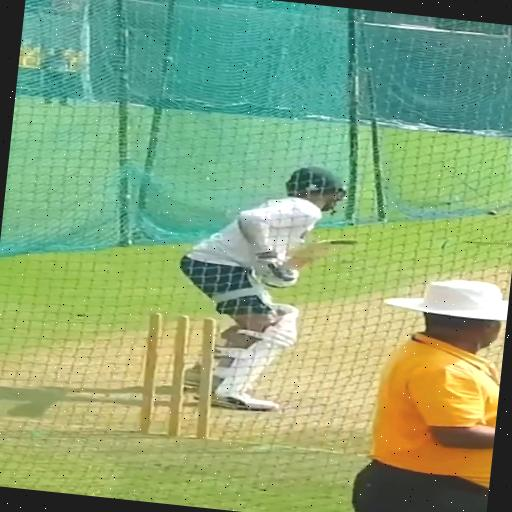Cricket bat: (287, 239, 356, 270)
